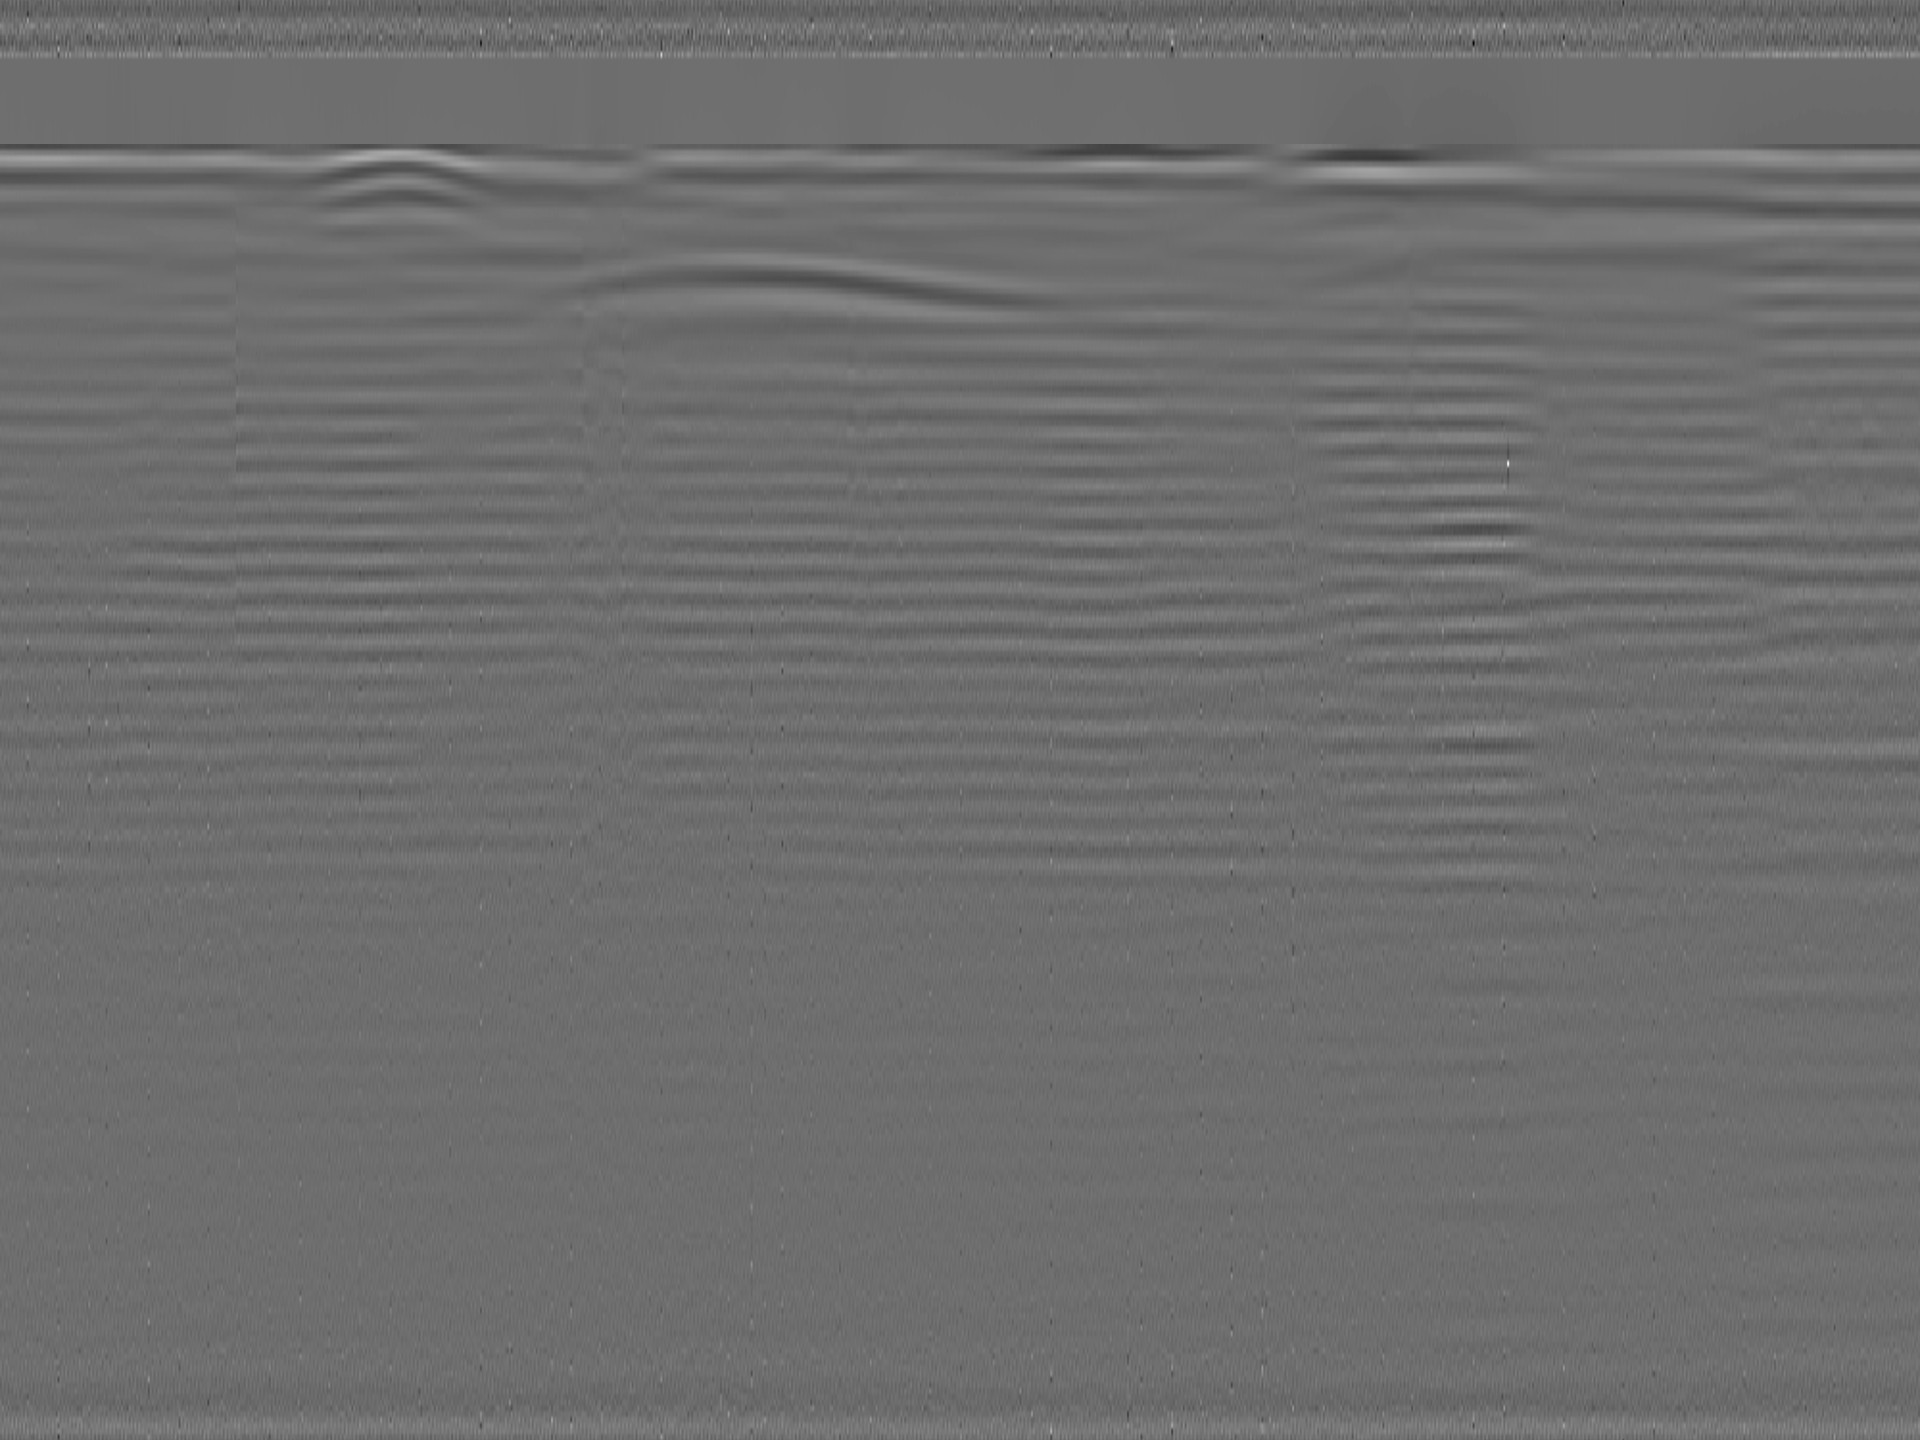Tunnel: (529, 256, 1096, 319)
